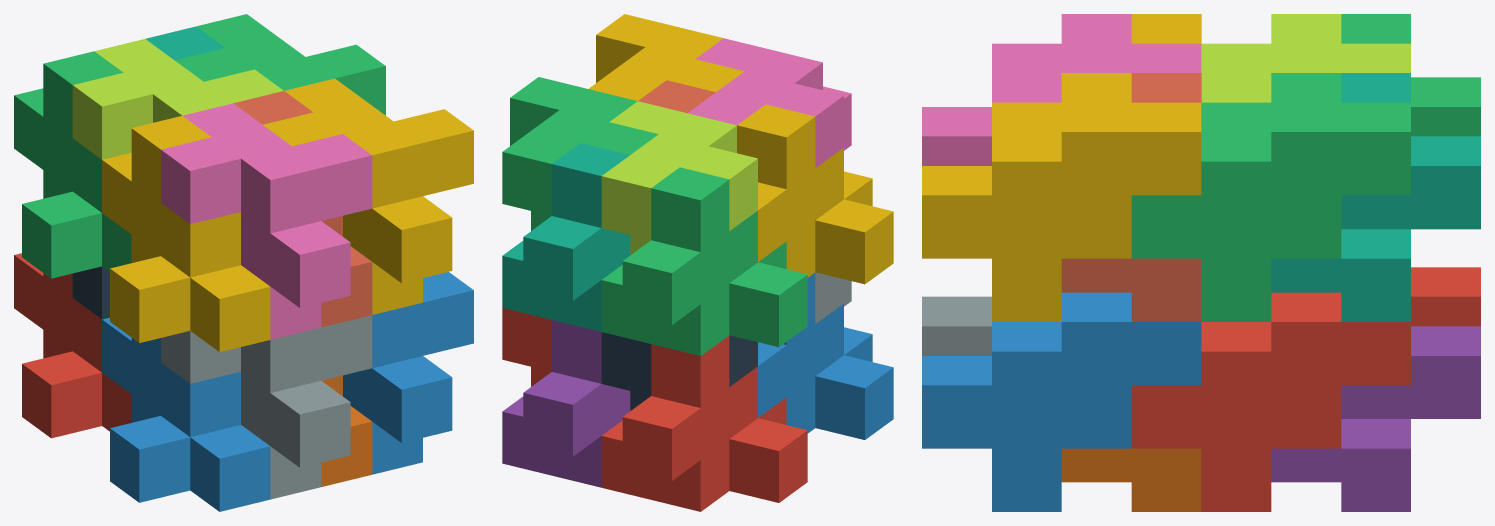
Rendered from tiling.obj.
3 renders of one model, left to right at view 1: azimuth 30°, elevation 25°; view 2: azimuth 150°, elevation 25°; view 3: azimuth 270°, elevation 25°, orthographic. The views are drawn at different scales.
Visible parts, largest first — view 1: copy_2_domain_4, copy_1_domain_4, copy_2_domain_8, copy_1_domain_2, copy_2_domain_2, copy_1_domain_3, copy_2_domain_6, copy_1_domain_1, copy_2_domain_3, copy_2_domain_7, copy_1_domain_8, copy_1_domain_6 (+2 smaller); view 2: copy_1_domain_3, copy_1_domain_1, copy_1_domain_4, copy_1_domain_7, copy_1_domain_2, copy_1_domain_5, copy_2_domain_3, copy_2_domain_7, copy_2_domain_4, copy_2_domain_8, copy_2_domain_1, copy_2_domain_5 (+2 smaller); view 3: copy_2_domain_8, copy_2_domain_7, copy_2_domain_6, copy_2_domain_5, copy_1_domain_7, copy_1_domain_5, copy_2_domain_4, copy_2_domain_3, copy_1_domain_8, copy_1_domain_6, copy_1_domain_3, copy_1_domain_1 (+2 smaller).
Boxes of the visible parts, box(x1,y1,x2,y2) form: copy_2_domain_4: box(161, 103, 372, 339); copy_1_domain_4: box(102, 115, 270, 352); copy_2_domain_8: box(263, 78, 473, 314); copy_1_domain_2: box(102, 317, 270, 511); copy_2_domain_2: box(161, 315, 372, 499); copy_1_domain_3: box(14, 51, 131, 278); copy_2_domain_6: box(343, 272, 473, 474); copy_1_domain_1: box(14, 253, 131, 438); copy_2_domain_3: box(72, 39, 283, 159); copy_2_domain_7: box(175, 14, 385, 115); copy_1_domain_8: box(234, 91, 372, 327); copy_1_domain_6: box(321, 375, 372, 486); copy_1_domain_3: box(601, 167, 807, 355); copy_1_domain_1: box(601, 335, 807, 511); copy_1_domain_4: box(737, 104, 893, 284); copy_1_domain_7: box(502, 143, 630, 331); copy_1_domain_2: box(758, 272, 893, 439); copy_1_domain_5: box(502, 320, 630, 487); copy_2_domain_3: box(601, 101, 757, 254); copy_2_domain_7: box(502, 77, 658, 230); copy_2_domain_4: box(688, 38, 851, 167); copy_2_domain_8: box(589, 14, 744, 100); copy_2_domain_1: box(601, 332, 757, 410); copy_2_domain_5: box(502, 308, 551, 386); copy_2_domain_8: box(922, 73, 1201, 321); copy_2_domain_7: box(1131, 73, 1410, 321); copy_2_domain_6: box(922, 292, 1201, 511); copy_2_domain_5: box(1131, 292, 1410, 511); copy_1_domain_7: box(1271, 73, 1480, 321); copy_1_domain_5: box(1271, 326, 1480, 511); copy_2_domain_4: box(922, 14, 1201, 165); copy_2_domain_3: box(1201, 14, 1410, 102); copy_1_domain_8: box(1061, 73, 1201, 321); copy_1_domain_6: box(1061, 448, 1201, 511); copy_1_domain_3: box(1341, 14, 1480, 136); copy_1_domain_1: box(1411, 267, 1480, 326).
Bounding box in the file's own units: 6 × 6 × 8.
